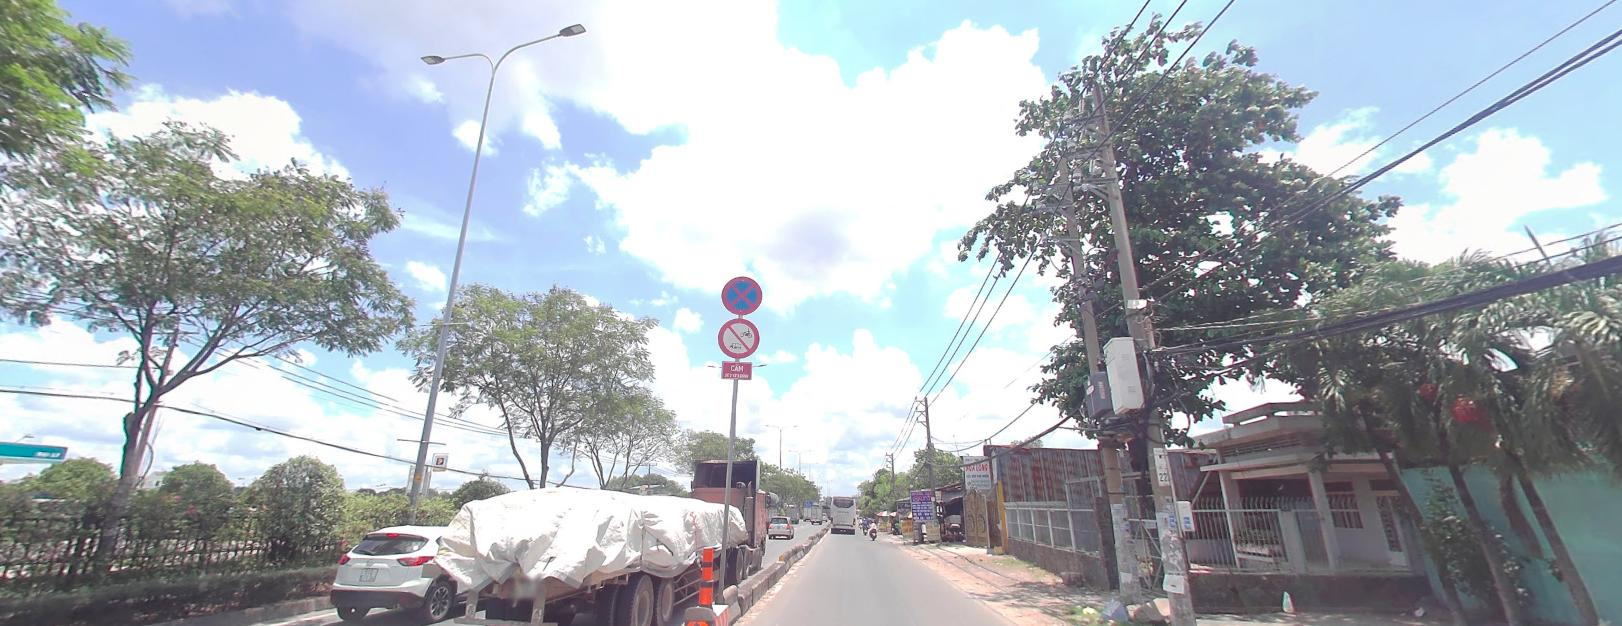Cam dung va do: (721, 274, 763, 312)
Gioi han toc do: (717, 317, 759, 356)
